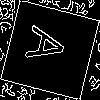A: (25, 24, 77, 70)
